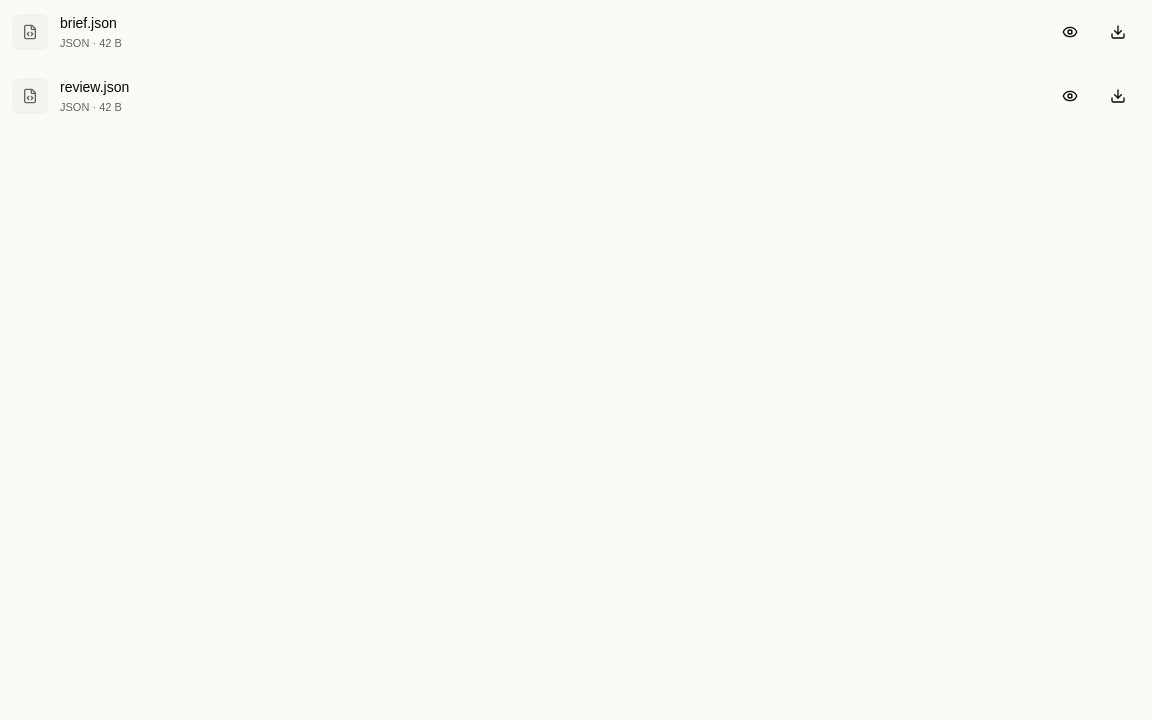
Scenario: FilePreviewGallery › switches previews using buttons and in-dialog arrow keys (compact: true)
Click the button named "预览 brief.json": click(1070, 32) 1048,10 -> 1092,54
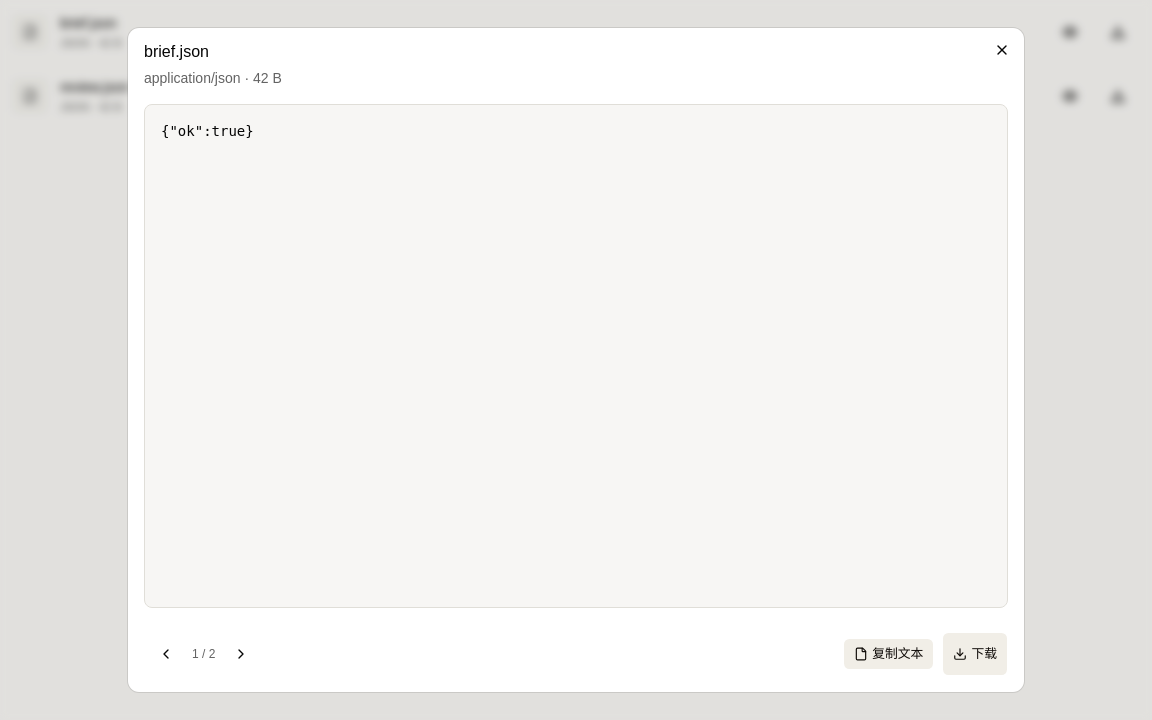
Click the button named "下一张": click(241, 654) 219,632 -> 263,676
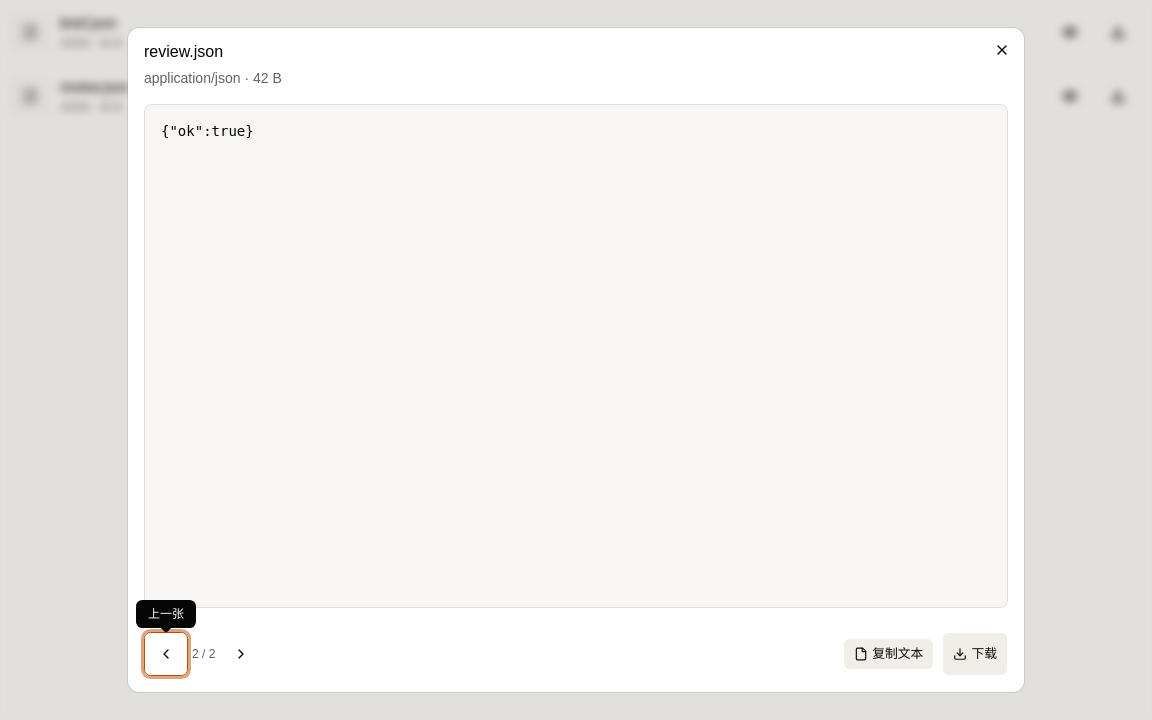
Expected: the button "复制文本" is enabled, 843,638 -> 934,670
Expected: the heading "review.json" is shown, 144,43 -> 223,60
Press ArrowLeft in the button named "下一张", box 219,632 -> 263,676
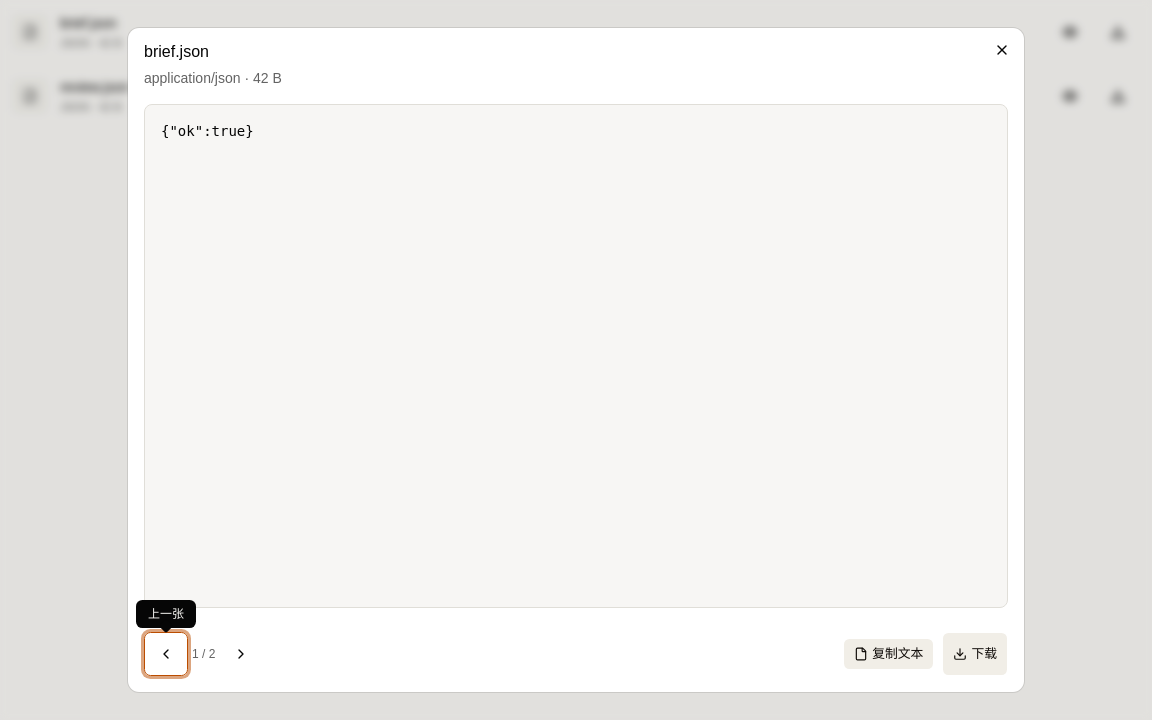
Expected: the heading "brief.json" is shown, 144,43 -> 209,60
Press ArrowRight in the button "复制文本", box 843,638 -> 934,670
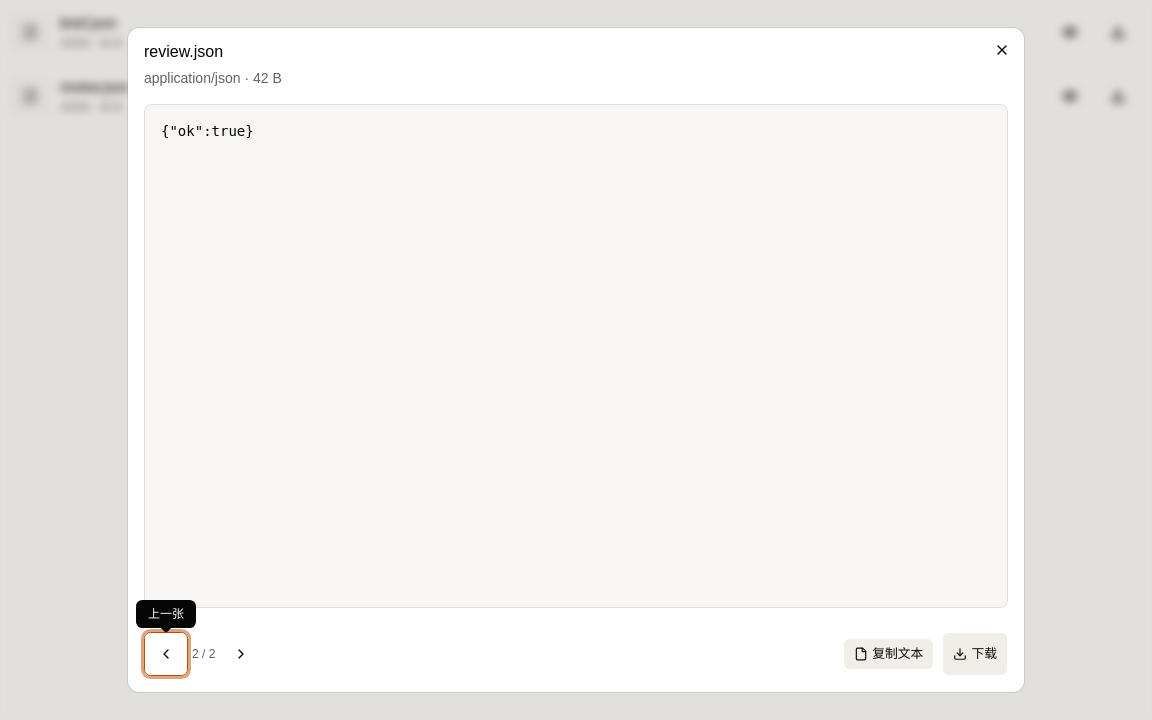
Expected: the heading "review.json" is shown, 144,43 -> 223,60
